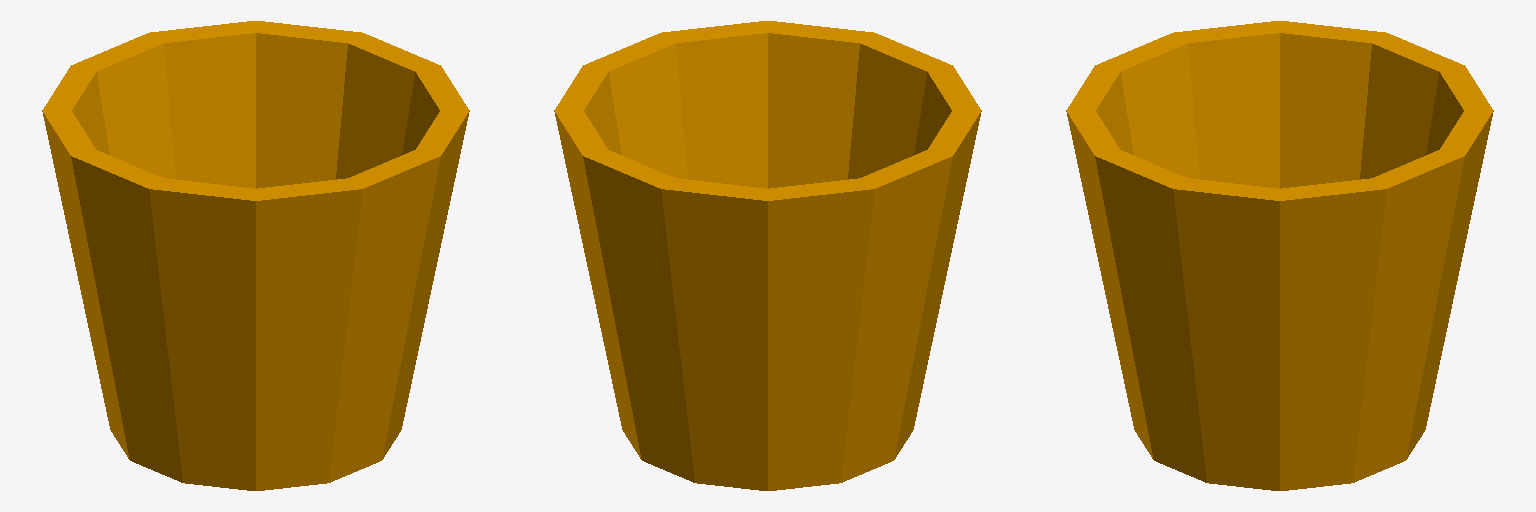
The robot description file, URDF, robot "bucketbig":
<?xml version="1.0"?>
<robot name="bucketbig">
    <link name="bucketbig">
        <visual>
            <geometry>
                <mesh filename="../mesh/factory_insertion/bucketbig.obj"/>
            </geometry>
        </visual>
        <collision>
            <geometry>
                <mesh filename="../mesh/factory_insertion/bucketbig.obj"/>
            </geometry>
             <!-- sdf resolution="256"-->
        </collision>
    </link>
</robot>

--- Render facts (derived) ---
The picture shows the robot from 3 angles, left to right: view 1: azimuth 30°, elevation 25°; view 2: azimuth 150°, elevation 25°; view 3: azimuth 270°, elevation 25°; orthographic projection.
Robot: bucketbig — 1 links, 0 joints (none); root link bucketbig; default pose: all joints at 0.
Links seen in each view (by area): view 1: bucketbig; view 2: bucketbig; view 3: bucketbig.
Link boxes in pixels (<box>): bucketbig: <box>42,21,469,490</box>; bucketbig: <box>554,21,981,490</box>; bucketbig: <box>1066,21,1493,490</box>.
Bounding box of the posed robot: 0.24 × 0.24 × 0.1977 m (x, y, z).
1 mesh visuals loaded from 1 distinct referenced files (1 OBJ).
